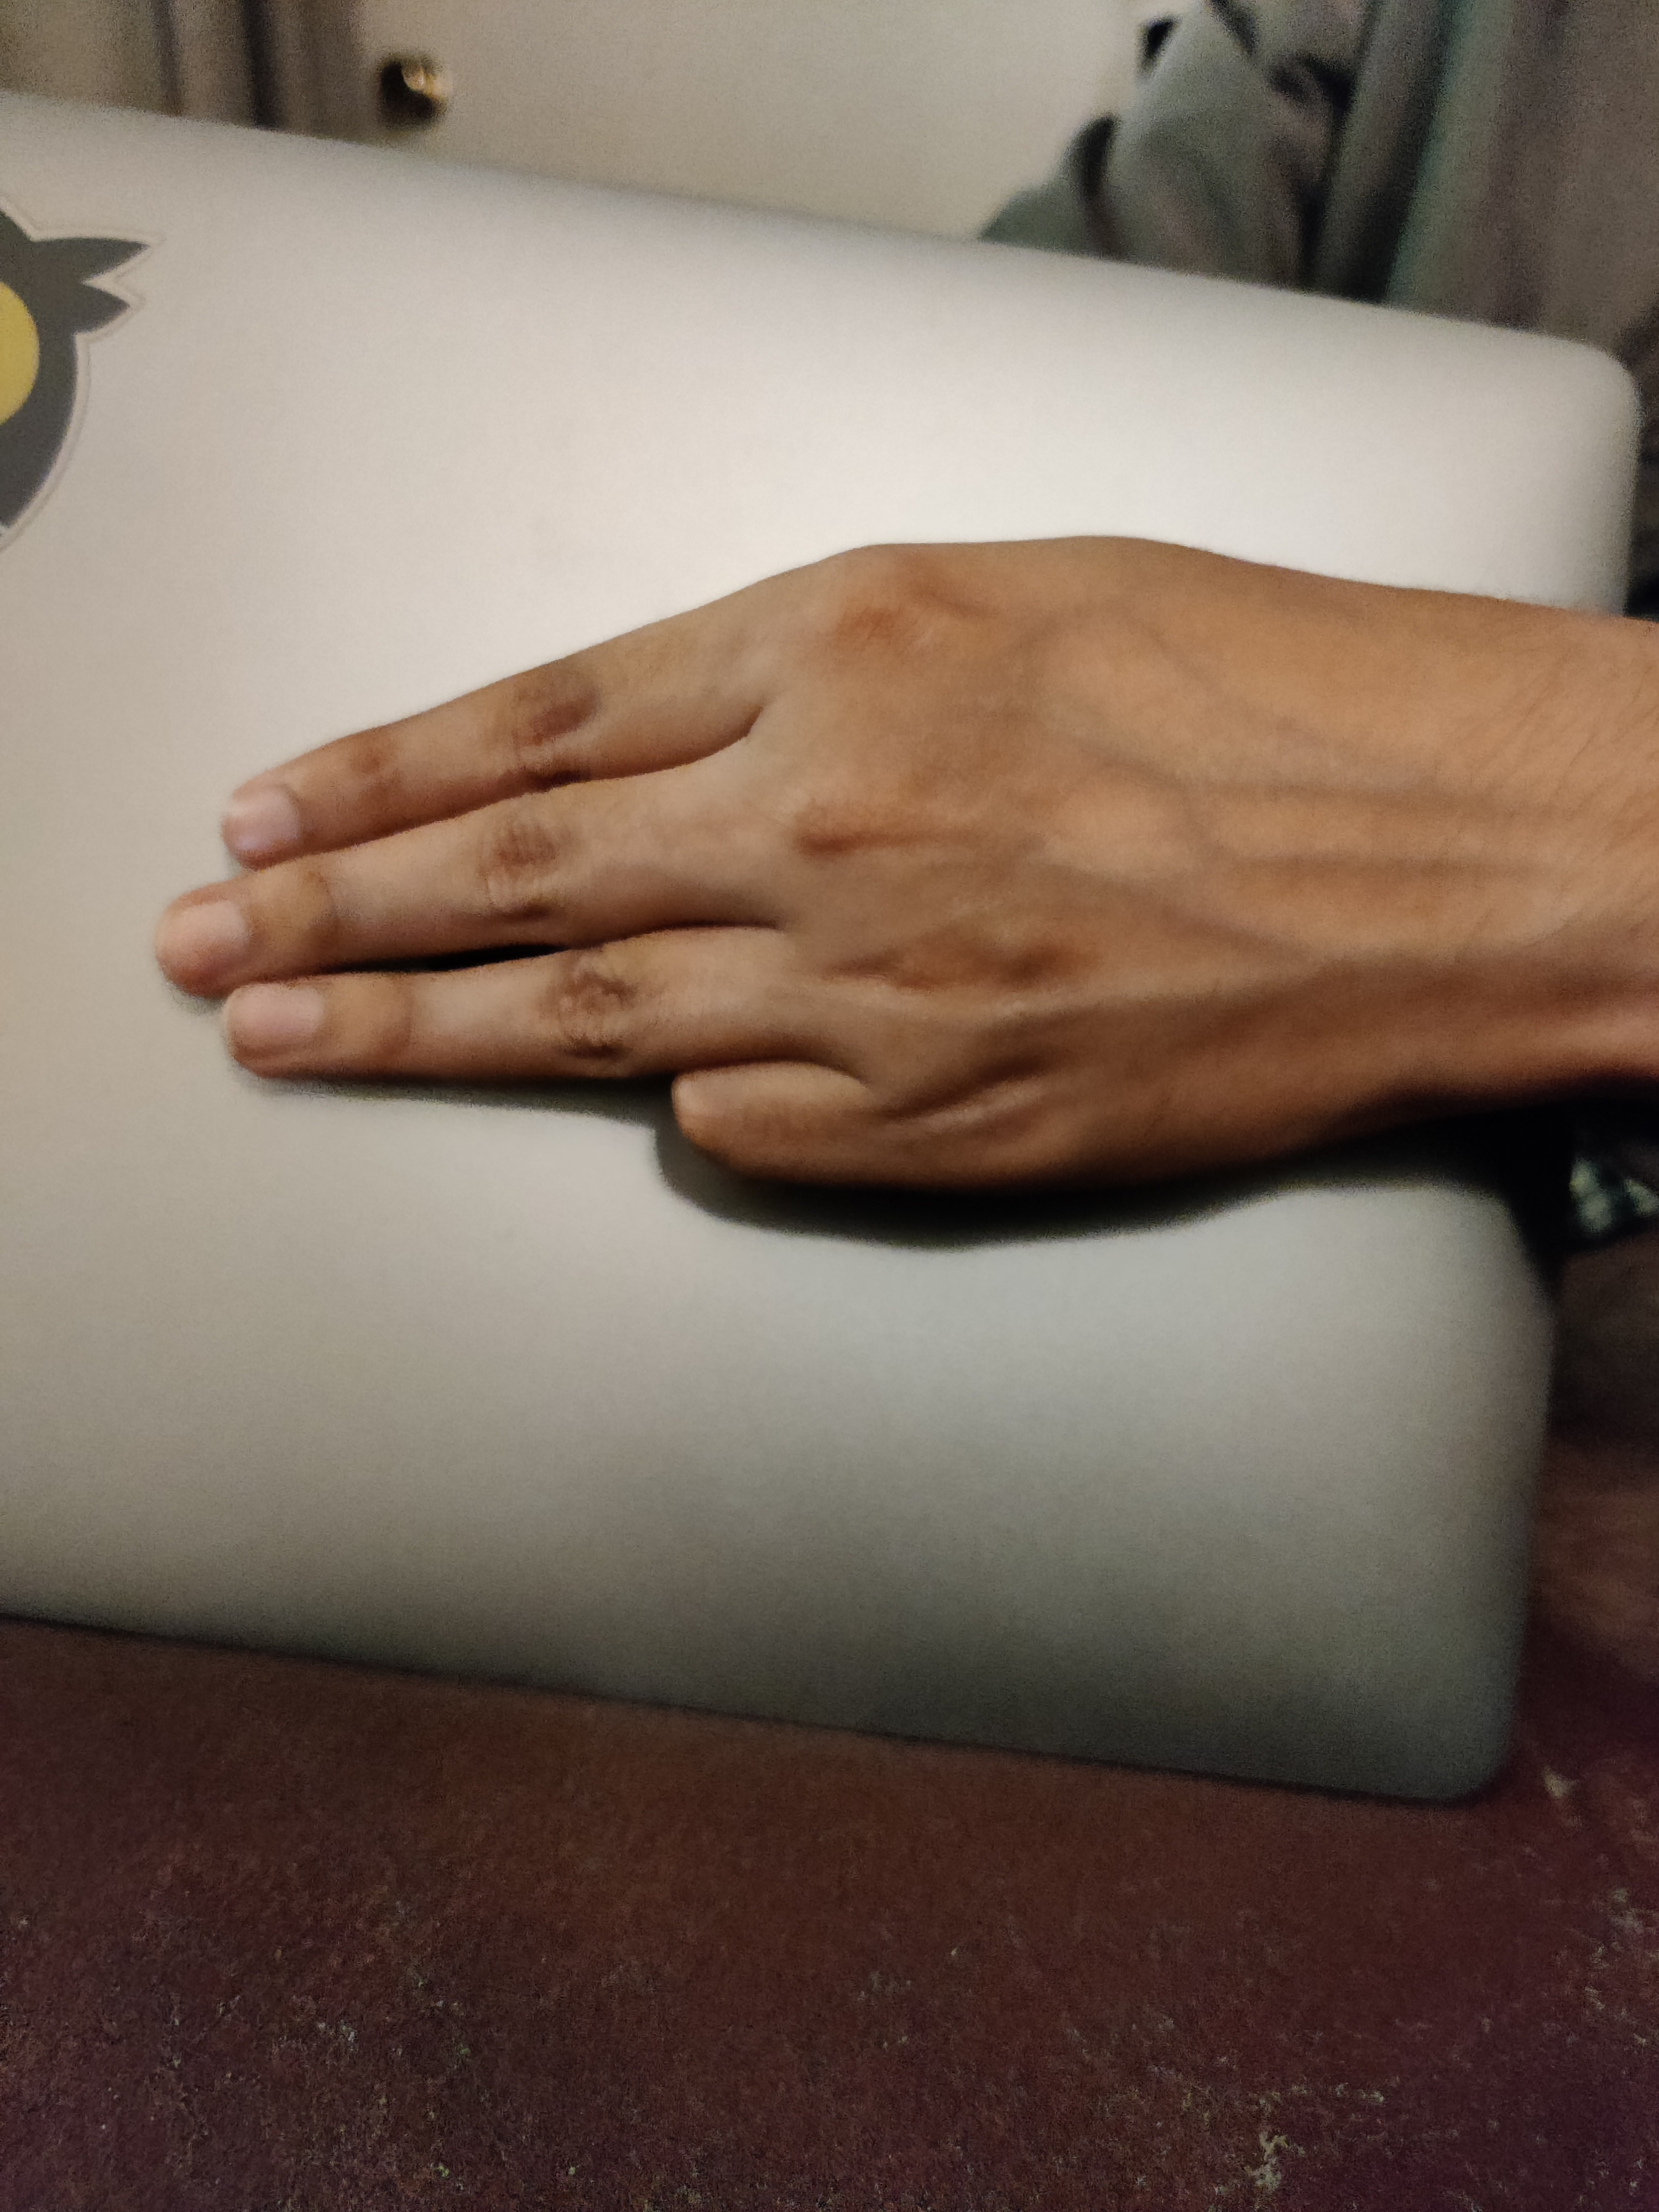right: (141, 449, 1608, 1480)
